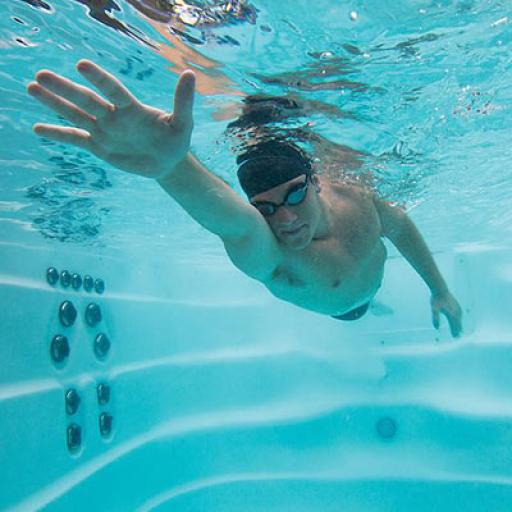swimming: (24, 55, 468, 342)
